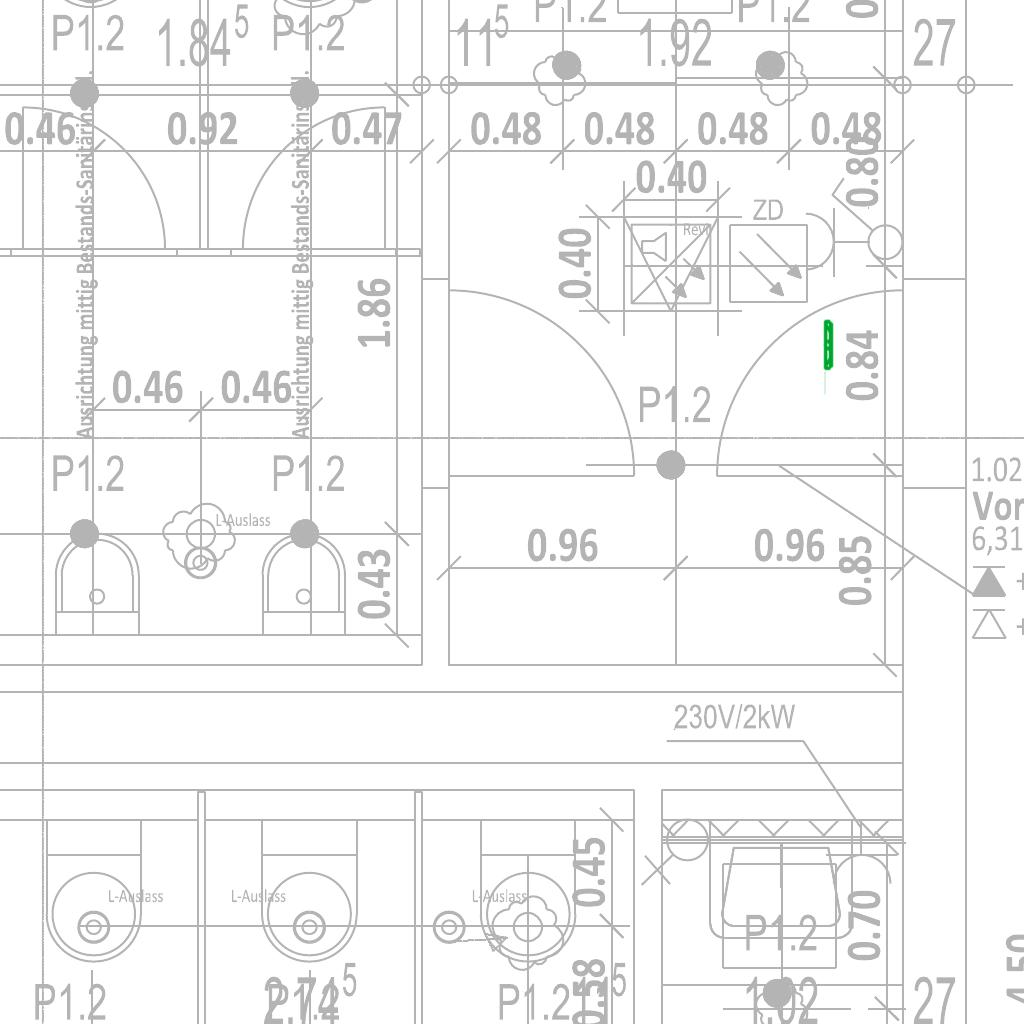Sicherheitsleuchte_Wandeinbau: (823, 318, 835, 397)
